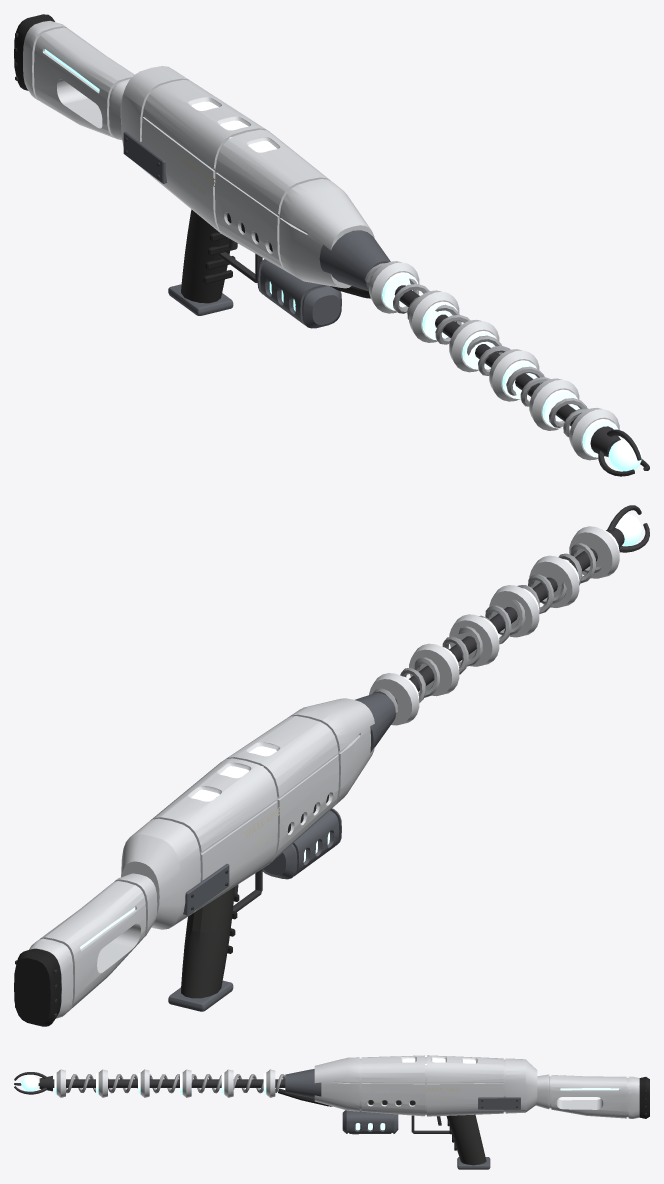
The model's file is sparkvine.glb.
3 renders of one model, top to bottom at view 1: azimuth 30°, elevation 25°; view 2: azimuth 150°, elevation 25°; view 3: azimuth 270°, elevation 25°, orthographic. The views are drawn at different scales.
Parts seen in each view (by area): view 1: Body; view 2: Body; view 3: Body.
Boxes of the visible parts, x1,y1,x2,y2 form: Body: [14, 14, 649, 476]; Body: [14, 505, 649, 1026]; Body: [14, 1055, 649, 1169].
Bounding box in the file's own units: 0.0647 × 0.1802 × 0.9714.
